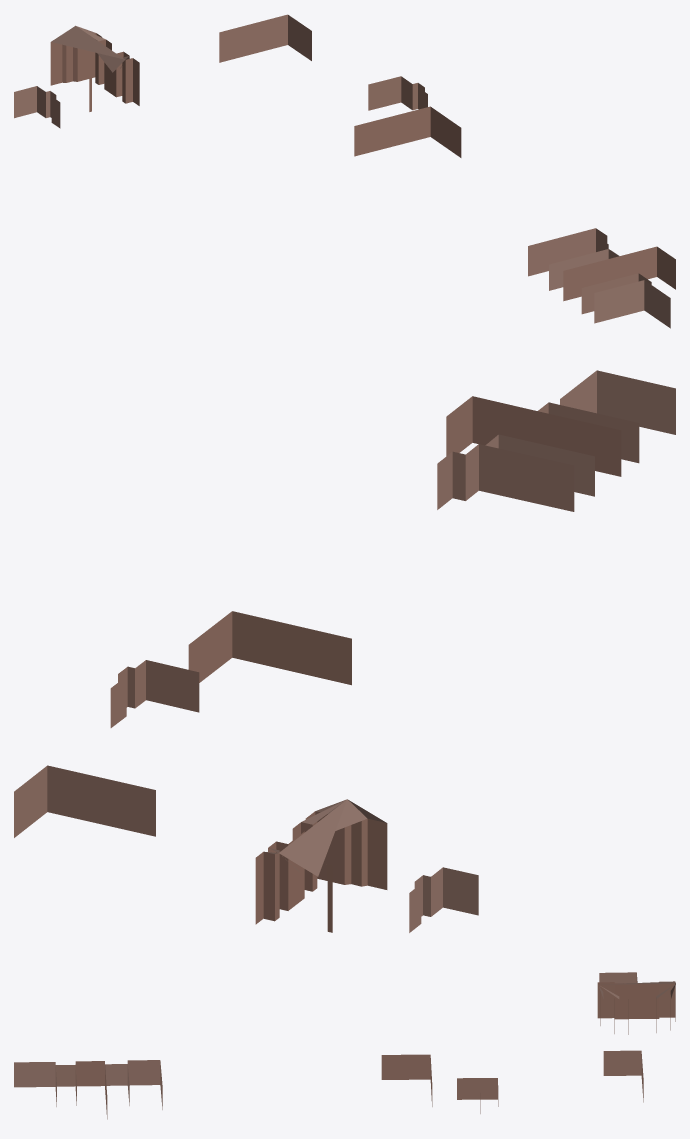
The model's file is c_1635_17825_buildings_residential.glb.
3 renders of one model, top to bottom at view 1: azimuth 30°, elevation 25°; view 2: azimuth 150°, elevation 25°; view 3: azimuth 270°, elevation 25°, orthographic. The views are drawn at different scales.
Visible parts, largest first — view 1: geometry_0; view 2: geometry_0; view 3: geometry_0.
Part boxes in pixels (<box>): geometry_0: <box>14,14,675,328</box>; geometry_0: <box>14,370,675,932</box>; geometry_0: <box>14,972,675,1119</box>.
Bounding box in the file's own units: 122 × 20.35 × 263.
